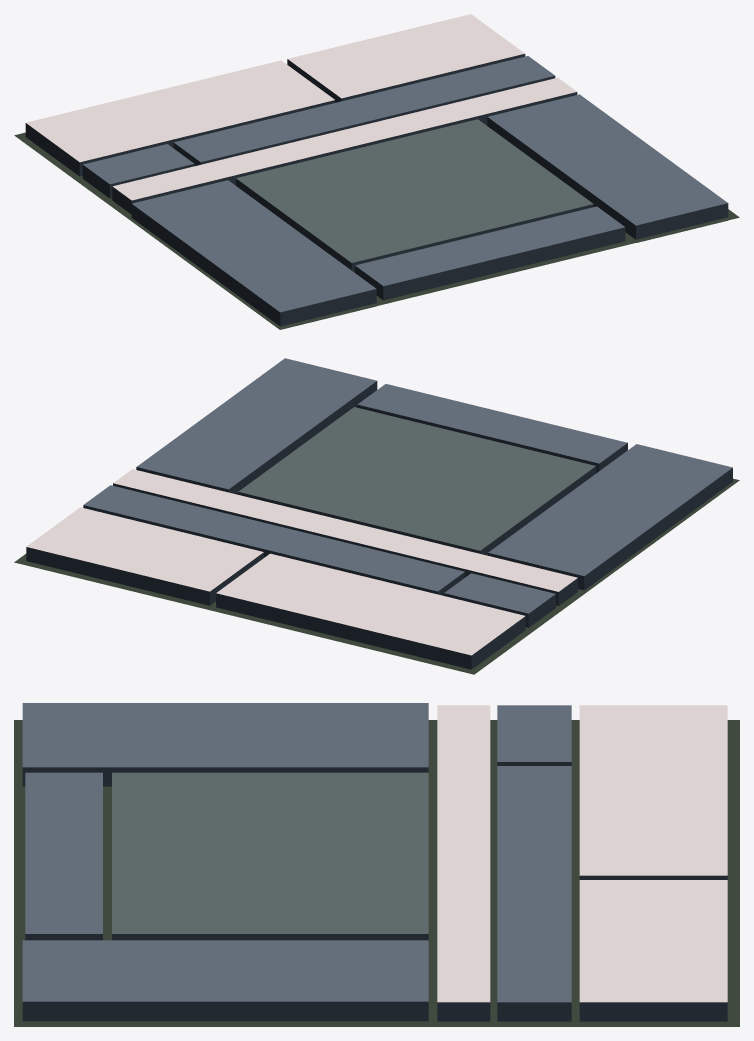
The model's file is Environment_Floor_3_TrimBorder.fbx.
3 views of the same model, one above another, from view 1: azimuth 30°, elevation 25°; view 2: azimuth 150°, elevation 25°; view 3: azimuth 270°, elevation 25° (orthographic). The views are drawn at different scales.
Visible parts, largest first — view 1: Floor_3_TrimBorder; view 2: Floor_3_TrimBorder; view 3: Floor_3_TrimBorder.
Boxes of the visible parts, x1,y1,x2,y2 form: Floor_3_TrimBorder: (14,14,739,329); Floor_3_TrimBorder: (14,358,739,674); Floor_3_TrimBorder: (14,703,739,1026).
Bounding box in the file's own units: 400 × 14.56 × 400.
